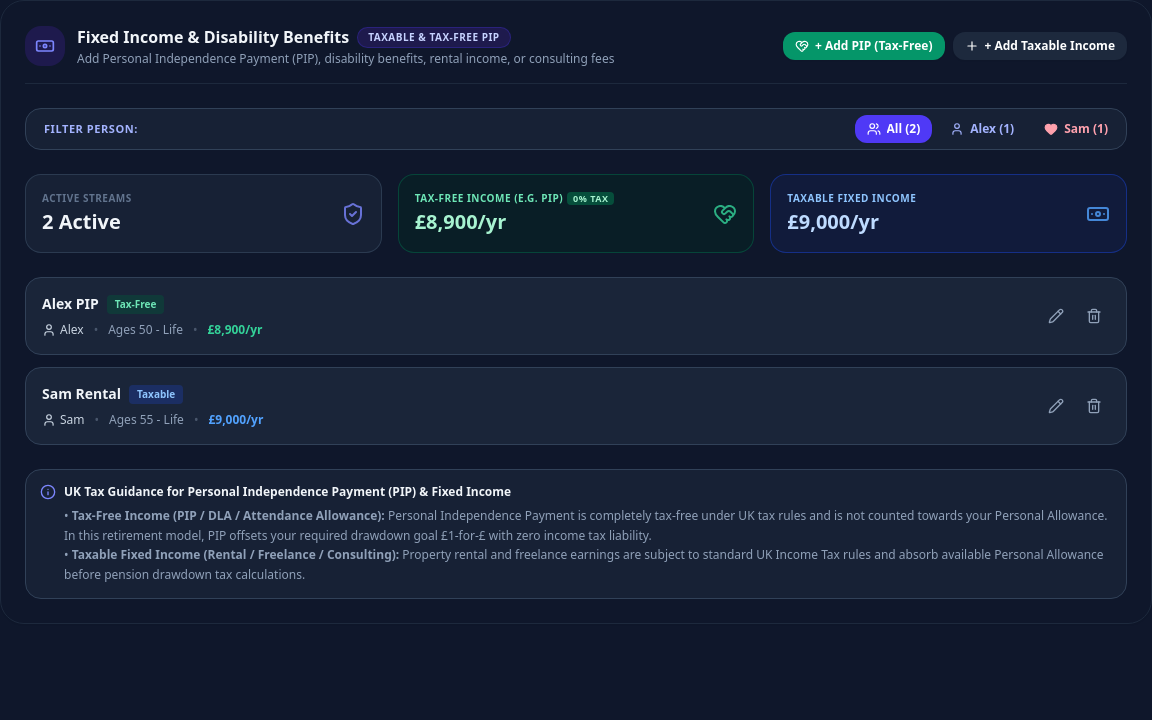
Test: FixedIncomeManager › supports couple planning mode with person filtering tabs
Expected: the text "Alex PIP" is shown, [42, 294, 99, 314]
Expected: the text "Sam Rental" is shown, [42, 384, 121, 404]
Note: Filter by Alex
What coordinates should you click on to do the following:
click the button "Alex (1)"
I would click on:
 (982, 129)
Its box is [938, 115, 1026, 143].
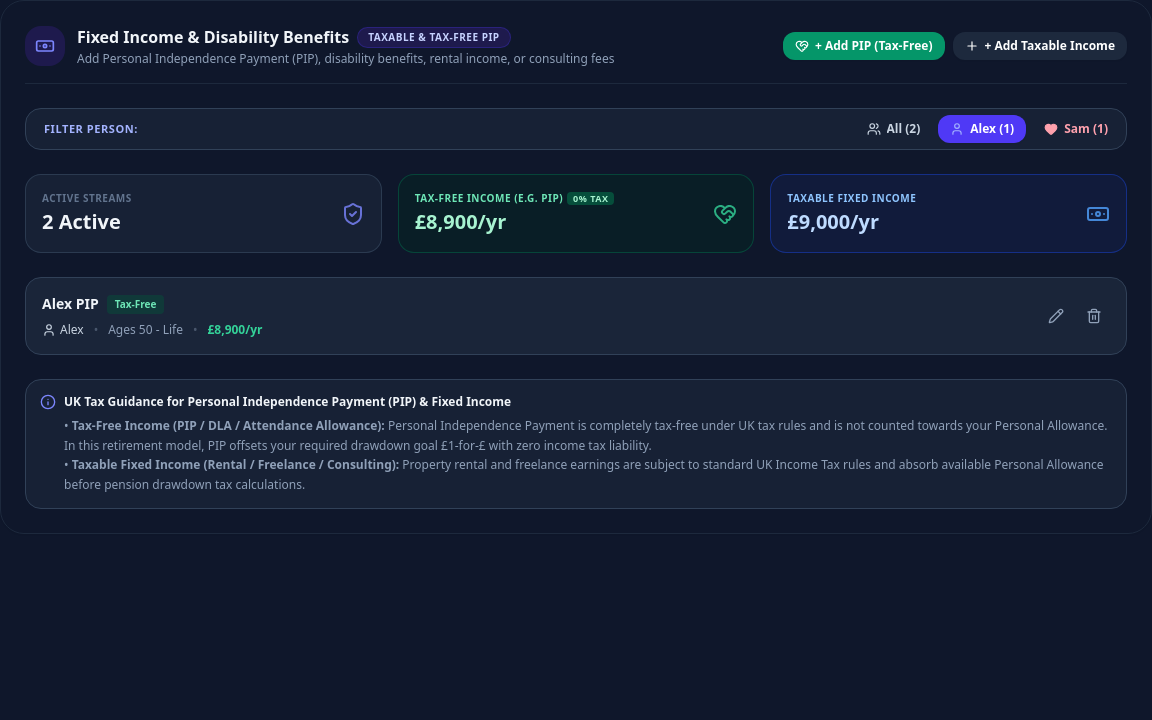
Expected: the text "Alex PIP" is shown, [42, 294, 99, 314]
Expected: the text "Sam Rental" is gone
Note: Filter by Sam
What coordinates should you click on to do the following:
click the button "Sam (1)"
I would click on:
 (1076, 129)
Its box is [1032, 115, 1120, 143].
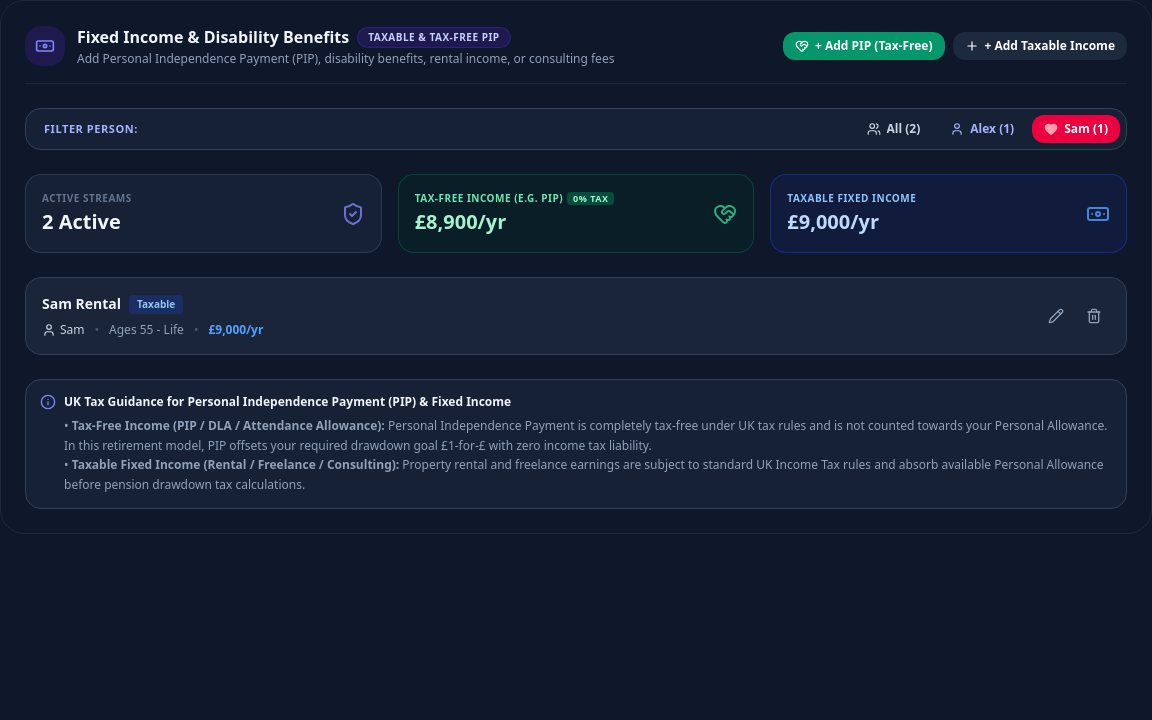
Expected: the text "Sam Rental" is shown, [42, 294, 121, 314]
Expected: the text "Alex PIP" is gone
Note: Filter by All
What coordinates should you click on to do the following:
click the button "All (2)"
I would click on:
 (893, 129)
Its box is [854, 115, 932, 143].
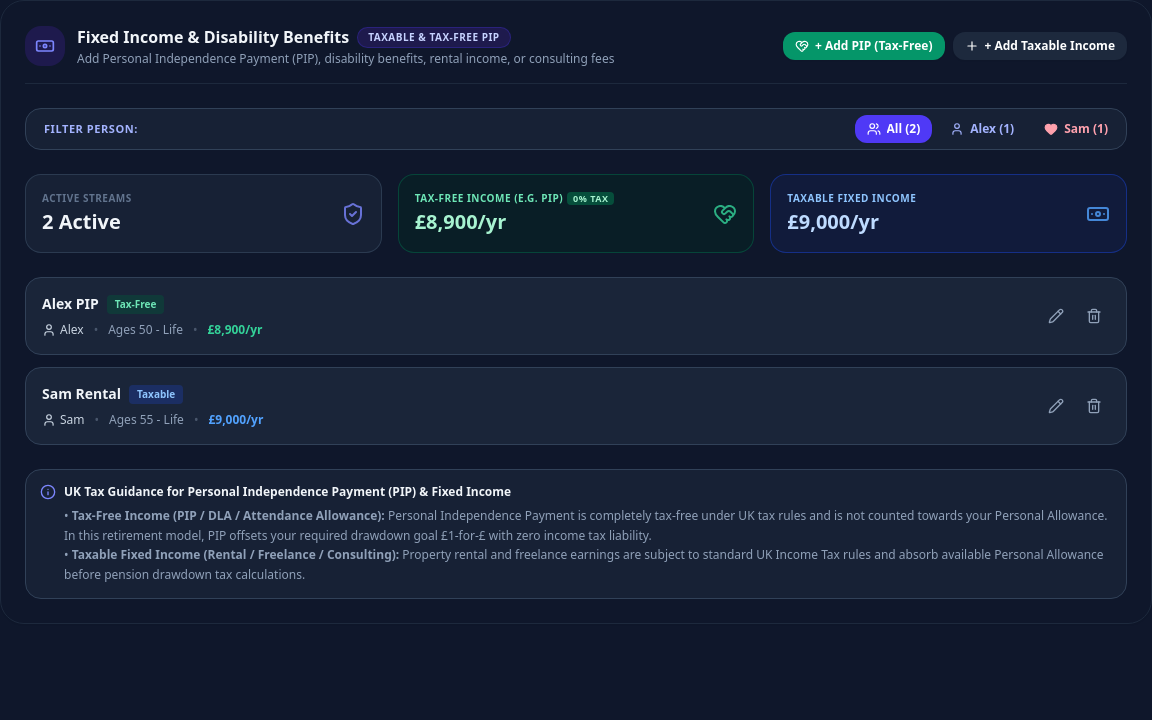
Expected: the text "Sam Rental" is shown, [42, 384, 121, 404]
Expected: the text "Alex PIP" is shown, [42, 294, 99, 314]
